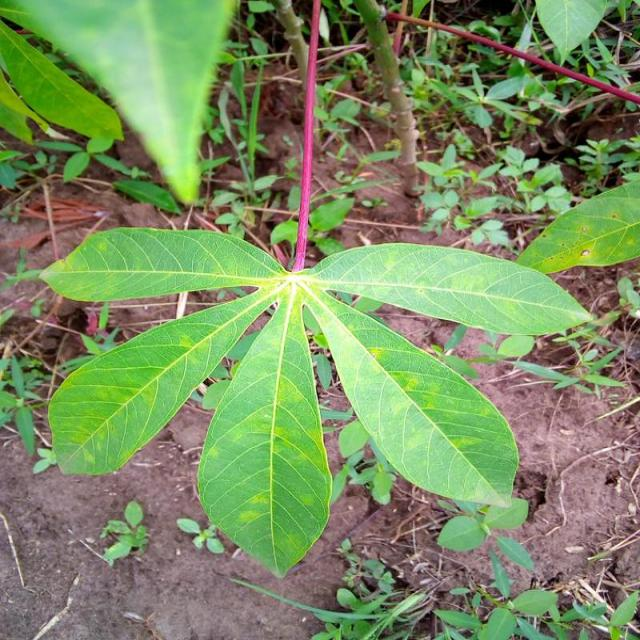cassava leaf: (40, 220, 594, 578), (301, 282, 520, 508), (0, 0, 238, 205), (46, 283, 282, 477), (195, 286, 333, 578), (38, 225, 286, 303)
